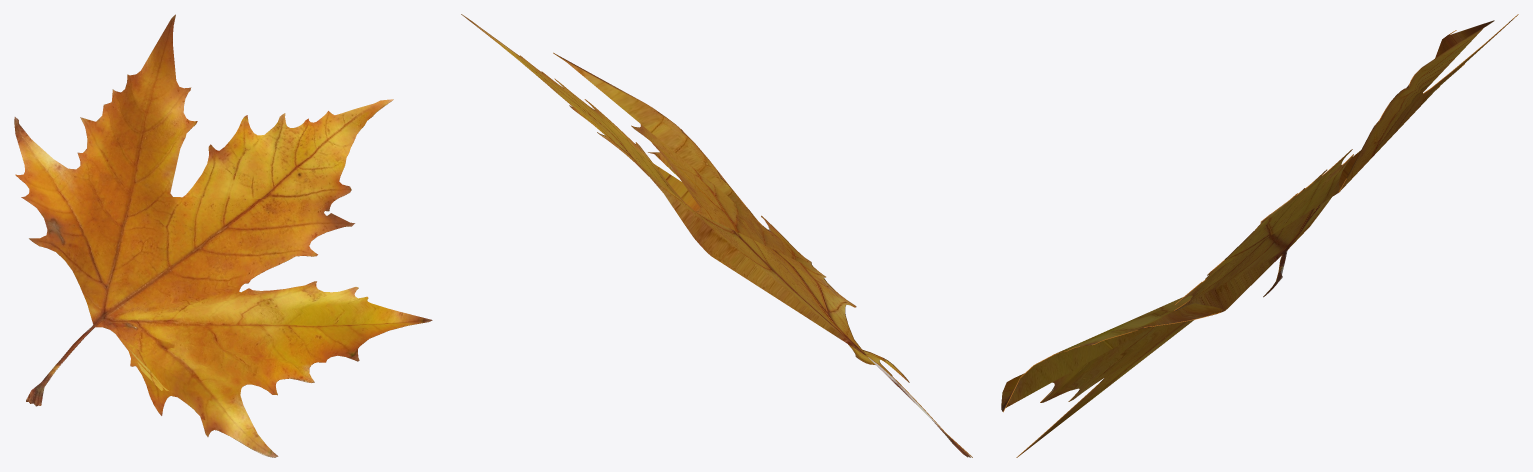
The model's file is leaf.glb.
3 renders of one model, left to right at view 1: azimuth 30°, elevation 25°; view 2: azimuth 150°, elevation 25°; view 3: azimuth 270°, elevation 25°, orthographic. The views are drawn at different scales.
Visible parts, largest first — view 1: Plane; view 2: Plane; view 3: Plane.
Boxes of the visible parts, <box> form: Plane: <box>14,14,432,457</box>; Plane: <box>461,14,972,457</box>; Plane: <box>1001,14,1518,457</box>.
Bounding box in the file's own units: 1.77 × 1.47 × 1.44.
Materials: 3 (2 with a texture image).
